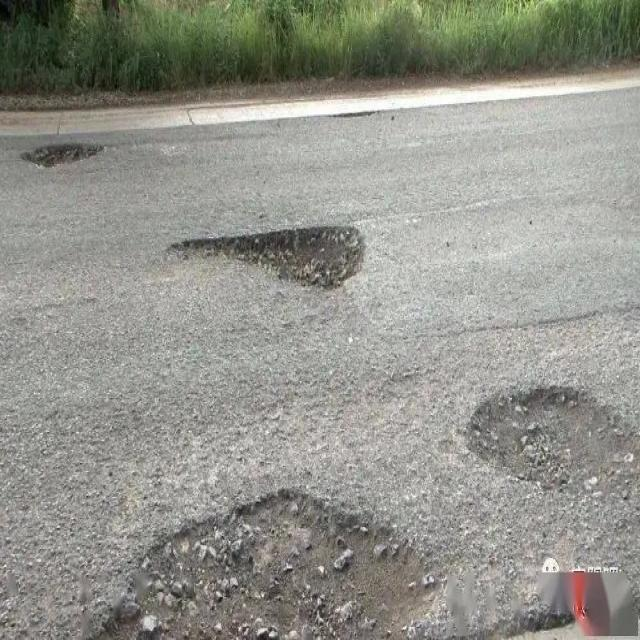Buraco: (83, 484, 449, 640), (459, 383, 640, 505), (159, 223, 370, 298), (14, 141, 109, 172)
